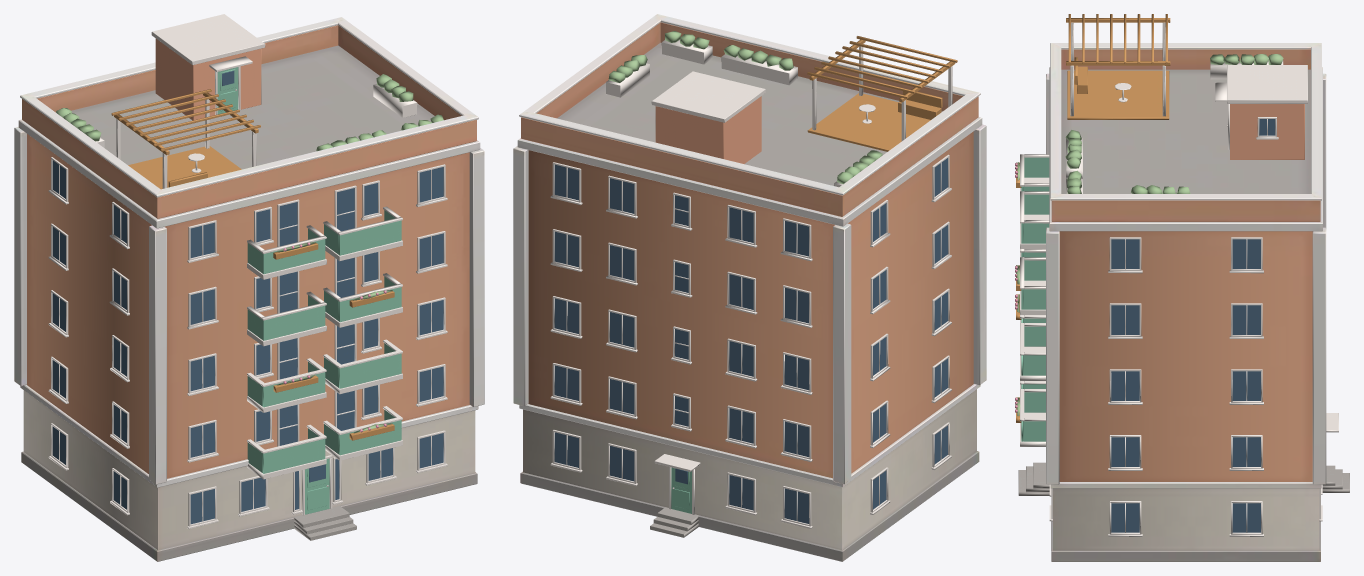
File: apartment-building.glb
The picture shows the model from 3 angles, left to right: view 1: azimuth 30°, elevation 25°; view 2: azimuth 150°, elevation 25°; view 3: azimuth 270°, elevation 25°; orthographic projection.
Parts seen in each view (by area): view 1: apartment-building_body, apartment-building_details; view 2: apartment-building_body, apartment-building_details; view 3: apartment-building_body, apartment-building_details.
Boxes of the visible parts, x1,y1,x2,y2 form: apartment-building_body: (14, 17, 484, 561); apartment-building_details: (48, 14, 447, 540); apartment-building_body: (513, 14, 986, 561); apartment-building_details: (550, 31, 957, 537); apartment-building_body: (1046, 43, 1326, 561); apartment-building_details: (1015, 14, 1349, 536).
Bounding box in the file's own units: 15.56 × 18.3 × 13.8.
Materials: 2 (2 with a texture image).
